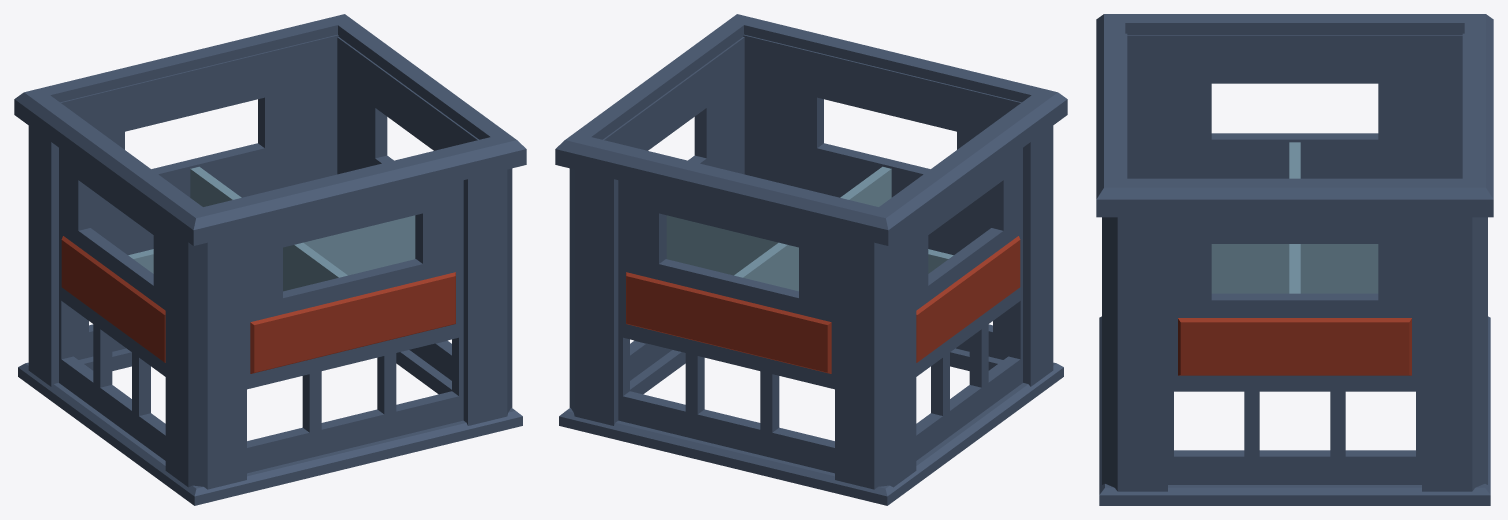
File: beverage-crate-c195c9.glb
3 renders of one model, left to right at view 1: azimuth 30°, elevation 25°; view 2: azimuth 150°, elevation 25°; view 3: azimuth 270°, elevation 25°, orthographic. The views are drawn at different scales.
Visible parts, largest first — view 1: beverage-crate, divider; view 2: beverage-crate, divider; view 3: beverage-crate, divider.
Part boxes in pixels (bbox=[...]): beverage-crate: bbox=[14, 14, 526, 505]; divider: bbox=[128, 166, 415, 291]; beverage-crate: bbox=[555, 14, 1067, 505]; divider: bbox=[666, 166, 953, 291]; beverage-crate: bbox=[1096, 14, 1493, 505]; divider: bbox=[1211, 142, 1378, 293].
Bounding box in the file's own units: 0.44 × 0.36 × 0.41.
